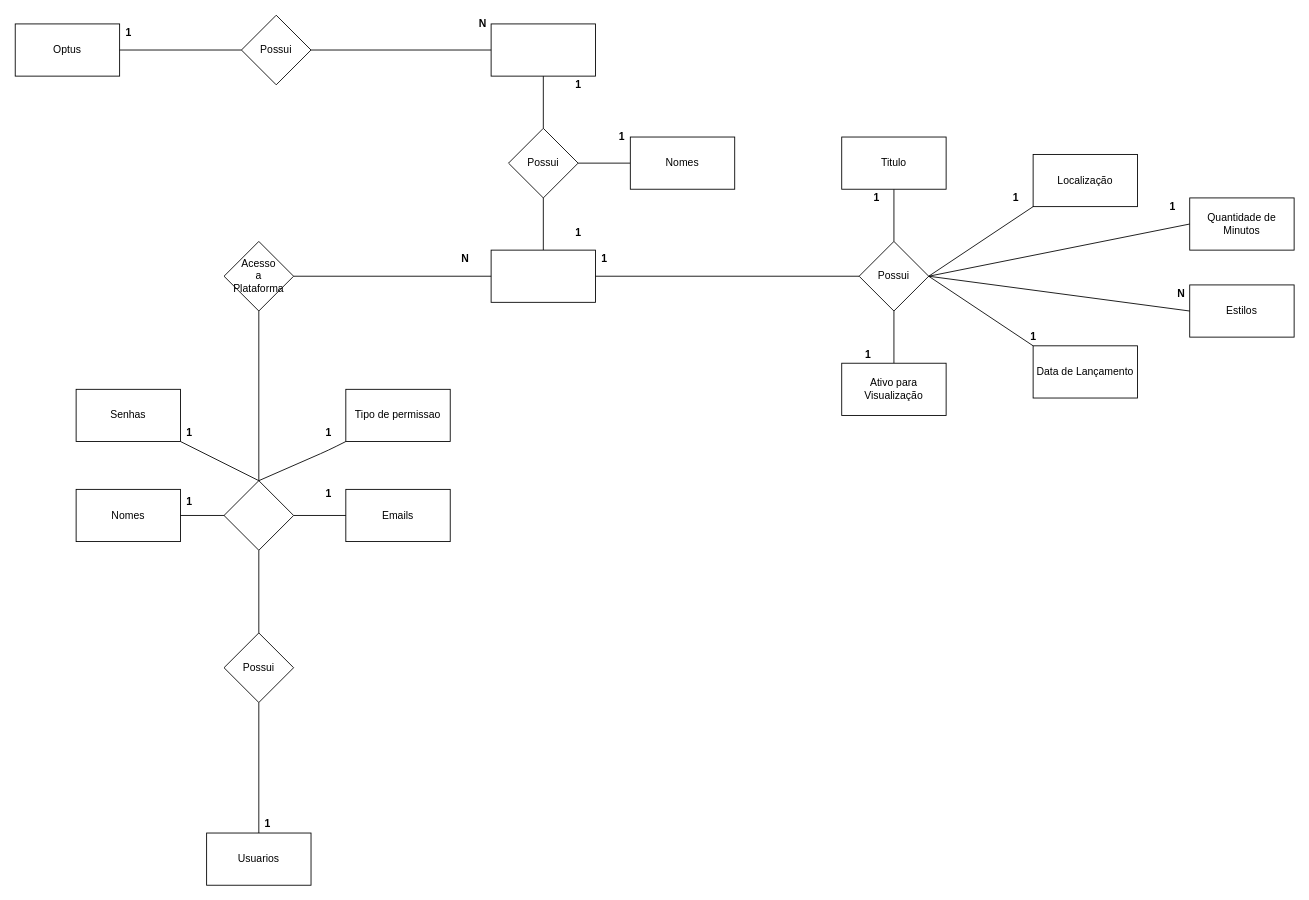
Some shapes in this 1309 by 900 pixel diagram are drawn without their labels. The shapes that lost their labels are listed below. From the top down, each one's box as (x1, y1, x2, y2) in pixels, then its label:
(490, 23, 596, 76): Artistas
(490, 249, 596, 302): Albuns
(223, 480, 294, 550): Dados do usuario
